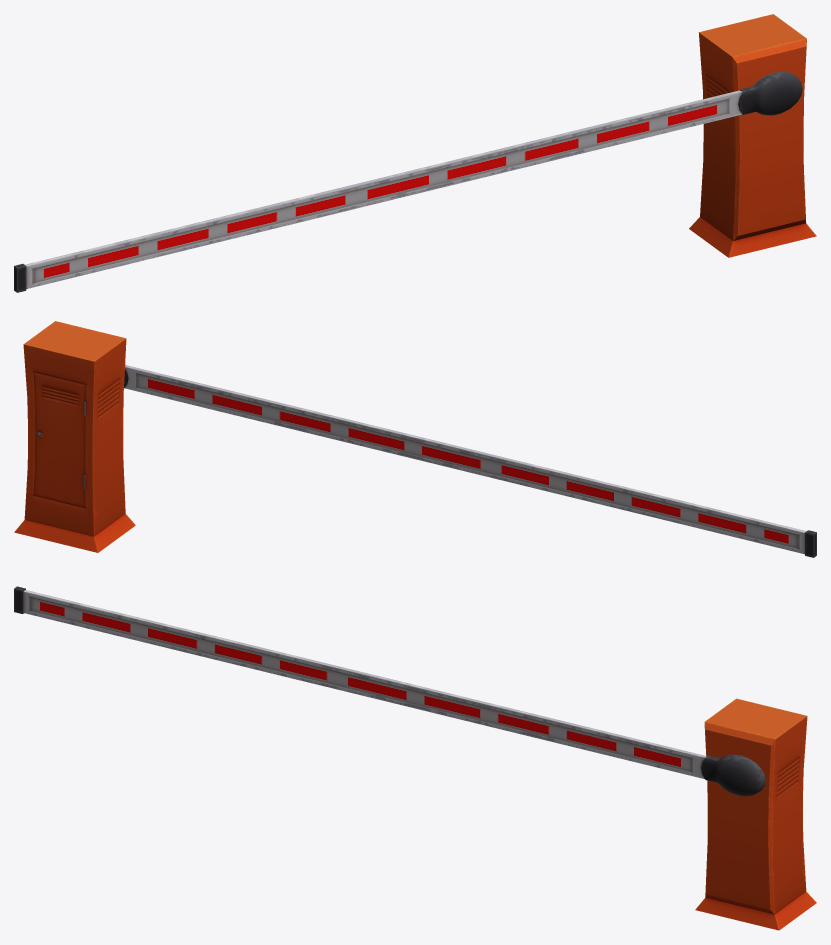
Rendered from BarrierArm01_1.FBX.
3 renders of one model, top to bottom at view 1: azimuth 30°, elevation 25°; view 2: azimuth 150°, elevation 25°; view 3: azimuth 330°, elevation 25°, orthographic. The views are drawn at different scales.
Parts seen in each view (by area): view 1: BarrierArm01_1; view 2: BarrierArm01_1; view 3: BarrierArm01_1.
Part boxes in pixels (x1,y1,x2,y2): BarrierArm01_1: (14,14,816,292); BarrierArm01_1: (14,321,816,557); BarrierArm01_1: (14,586,816,930).
Size of what is drawn, in the model's own units: 4.73 by 1.11 by 0.4704.
